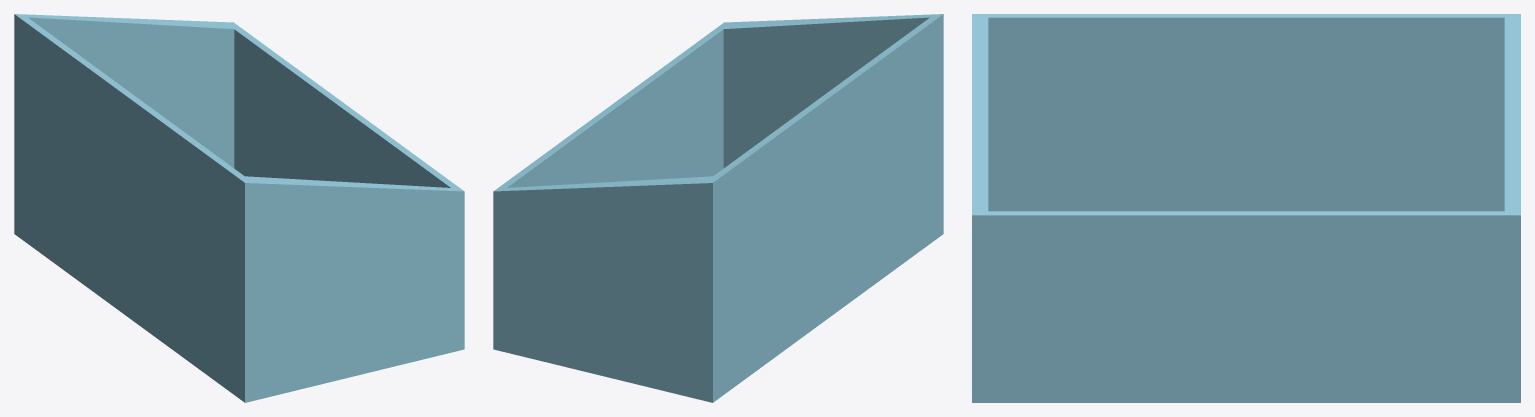
Rendered from tempat meyimpan tanah .fbx.
3 renders of one model, left to right at view 1: azimuth 30°, elevation 25°; view 2: azimuth 150°, elevation 25°; view 3: azimuth 270°, elevation 25°, orthographic. The views are drawn at different scales.
Visible parts, largest first — view 1: Cube.039; view 2: Cube.039; view 3: Cube.039.
Boxes of the visible parts, box(x1,y1,x2,y2) form: Cube.039: box(14, 14, 464, 402); Cube.039: box(493, 14, 943, 402); Cube.039: box(972, 14, 1520, 402).
Bounding box in the file's own units: 852 × 815 × 1551.
